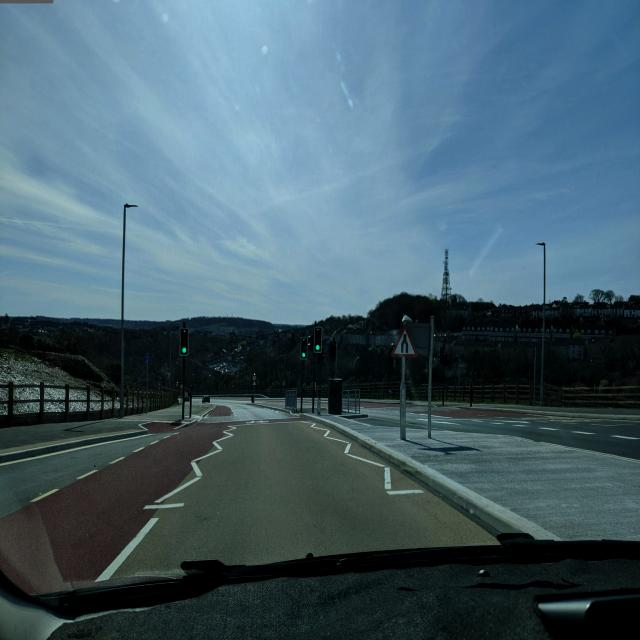car: (201, 394, 211, 404)
